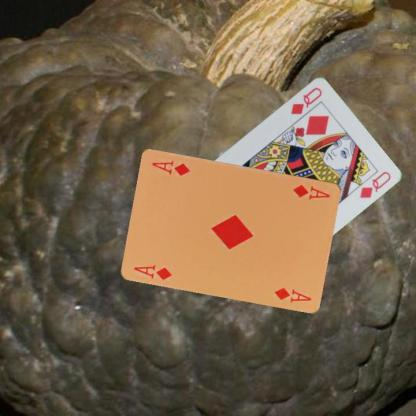Ad: (290, 181, 332, 201), (132, 262, 173, 281)
Qd: (288, 84, 324, 116)
